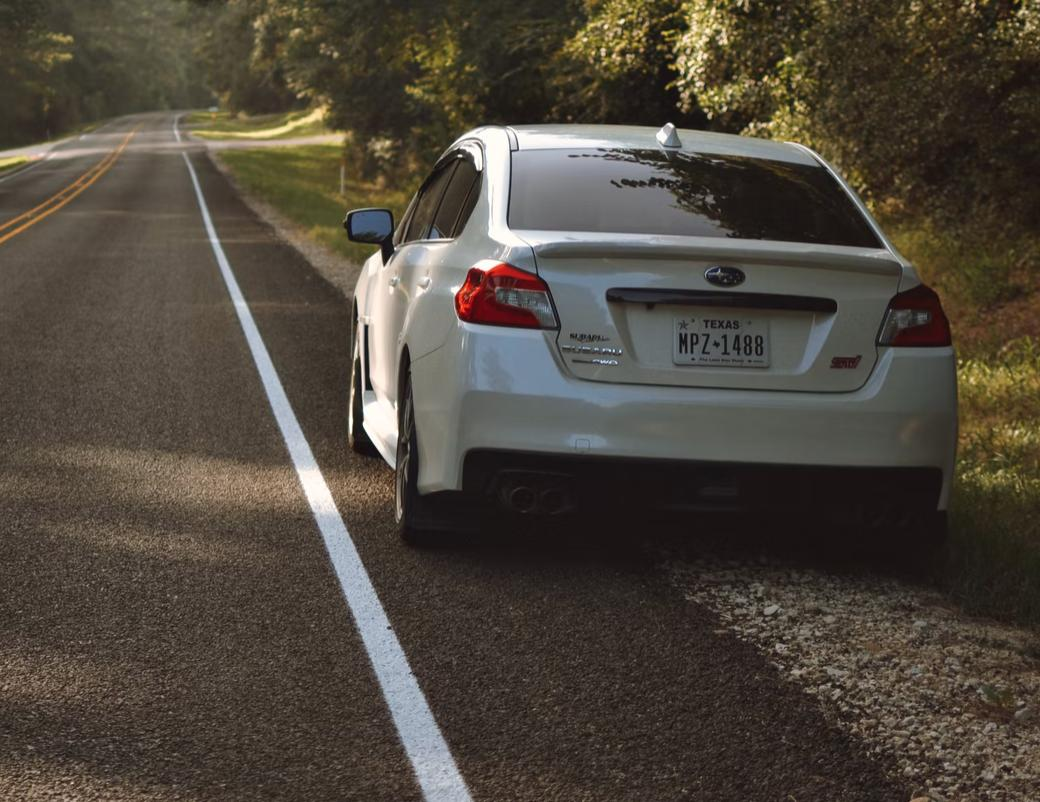car: (295, 111, 1004, 583)
